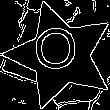O_S: (37, 30, 83, 81)
